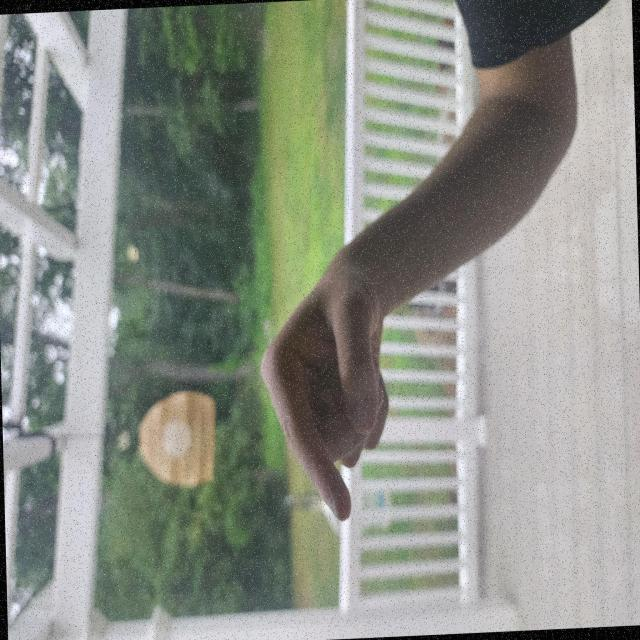Z: (84, 346, 306, 534)
